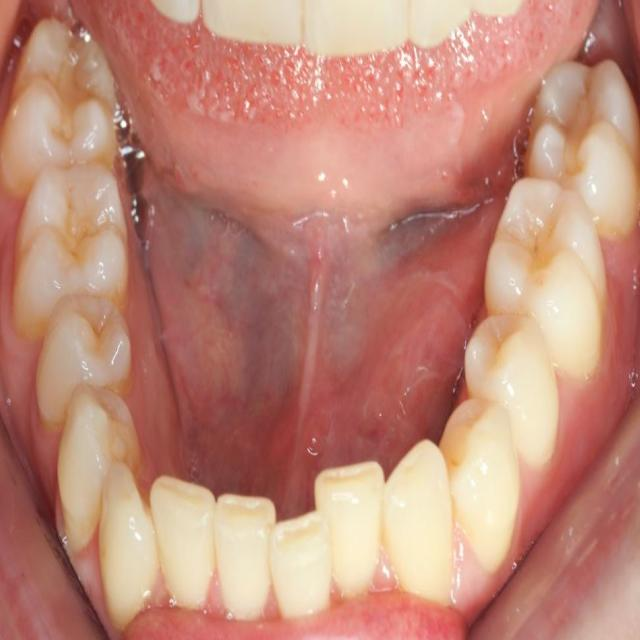1st Molar: (483, 177, 605, 382), (13, 165, 129, 330)
1st Premolar: (57, 387, 138, 554), (445, 401, 521, 573)
2nd Molar: (0, 18, 116, 195), (528, 58, 639, 239)
2nd Premolar: (464, 312, 559, 470), (36, 294, 132, 427)
Canine: (384, 442, 455, 606), (99, 464, 155, 634)
Central Incisor: (216, 495, 276, 622), (270, 513, 334, 621)
Lateral Incisor: (314, 459, 385, 602), (150, 472, 216, 612)
